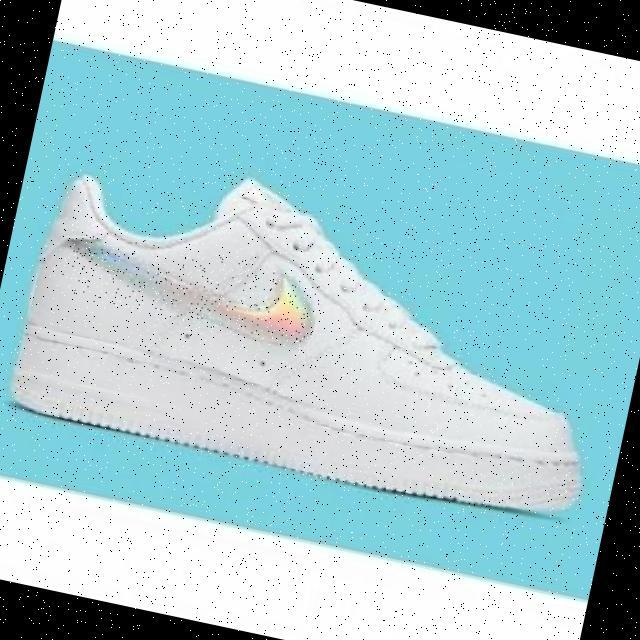Nike: (56, 224, 323, 349)
